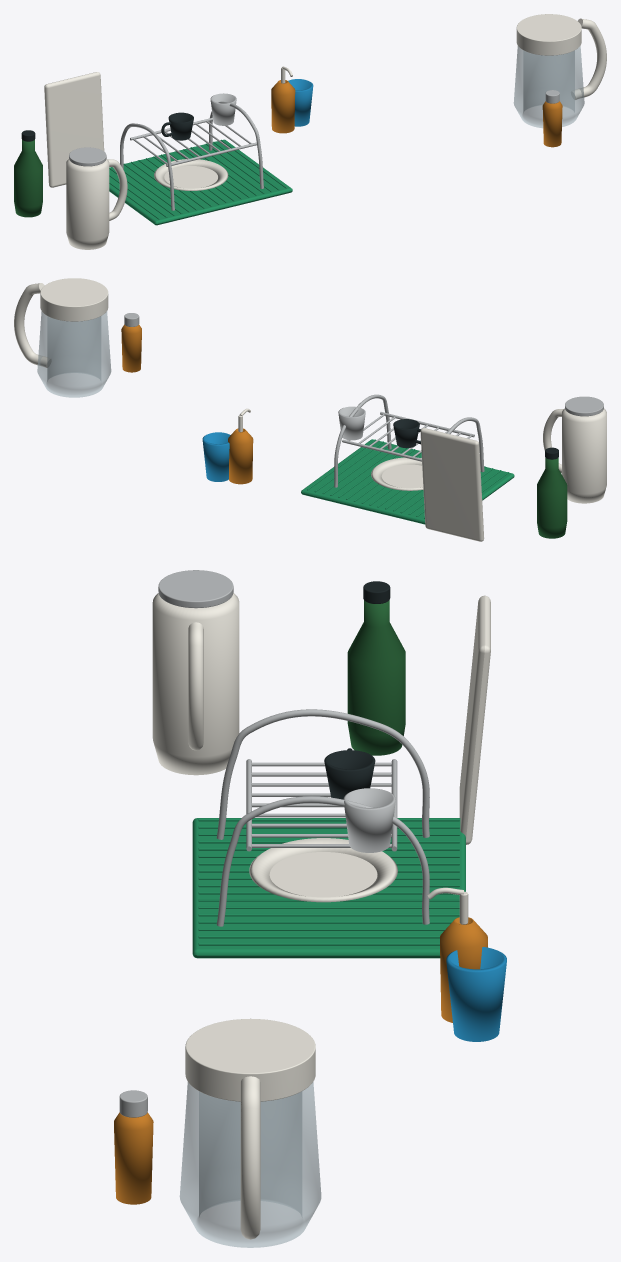
3 views of the same model, one above another, from view 1: azimuth 30°, elevation 25°; view 2: azimuth 150°, elevation 25°; view 3: azimuth 270°, elevation 25° (orthographic). The views are drawn at different scales.
Visible parts, largest first — view 1: source_green_drainmat, source_leaning_white_cutting_board, source_water_container_lower_shell, source_white_counter_canister, source_water_container_white_upper, source_green_household_bottle, source_counter_pump_bottle, source_water_container_handle, source_white_plate_center, source_lower_white_plate, source_front_small_orange_bottle, source_blue_counter_cup (+6 smaller); view 2: source_leaning_white_cutting_board, source_water_container_lower_shell, source_green_drainmat, source_white_counter_canister, source_water_container_white_upper, source_green_household_bottle, source_counter_pump_bottle, source_blue_counter_cup, source_water_container_handle, source_front_small_orange_bottle, source_white_plate_center, source_rack_metal_mug (+6 smaller); view 3: source_green_drainmat, source_water_container_lower_shell, source_white_counter_canister, source_water_container_white_upper, source_green_household_bottle, source_blue_counter_cup, source_leaning_white_cutting_board, source_white_plate_center, source_water_container_handle, source_front_small_orange_bottle, source_lower_white_plate, source_rack_side_arch_-2.435 (+8 smaller).
Part boxes in pixels (left/top/right/bottom): source_green_drainmat: left=109, top=139, right=292, bottom=225; source_leaning_white_cutting_board: left=44, top=72, right=104, bottom=187; source_water_container_lower_shell: left=513, top=46, right=584, bottom=128; source_white_counter_canister: left=66, top=159, right=109, bottom=249; source_water_container_white_upper: left=516, top=14, right=581, bottom=55; source_green_household_bottle: left=14, top=140, right=42, bottom=217; source_counter_pump_bottle: left=271, top=80, right=295, bottom=133; source_water_container_handle: left=571, top=18, right=606, bottom=99; source_white_plate_center: left=164, top=166, right=217, bottom=188; source_lower_white_plate: left=154, top=159, right=228, bottom=190; source_front_small_orange_bottle: left=542, top=101, right=562, bottom=147; source_blue_counter_cup: left=288, top=79, right=313, bottom=126; source_leaning_white_cutting_board: left=420, top=428, right=484, bottom=541; source_water_container_lower_shell: left=37, top=311, right=111, bottom=397; source_green_drainmat: left=301, top=439, right=514, bottom=524; source_white_counter_canister: left=562, top=408, right=606, bottom=503; source_water_container_white_upper: left=40, top=278, right=108, bottom=321; source_green_household_bottle: left=537, top=458, right=567, bottom=538; source_counter_pump_bottle: left=228, top=428, right=253, bottom=484; source_blue_counter_cup: left=202, top=432, right=230, bottom=481; source_water_container_handle: left=14, top=283, right=50, bottom=367; source_front_small_orange_bottle: left=121, top=324, right=141, bottom=372; source_white_plate_center: left=381, top=464, right=423, bottom=488; source_rack_metal_mug: left=338, top=406, right=365, bottom=440; source_green_drainmat: left=192, top=818, right=465, bottom=958; source_water_container_lower_shell: left=179, top=1082, right=321, bottom=1247; source_white_counter_canister: left=152, top=593, right=239, bottom=775; source_water_container_white_upper: left=185, top=1018, right=315, bottom=1101; source_green_household_bottle: left=347, top=600, right=405, bottom=755; source_blue_counter_cup: left=446, top=947, right=506, bottom=1041; source_leaning_white_cutting_board: left=459, top=595, right=490, bottom=844; source_white_plate_center: left=269, top=852, right=377, bottom=897; source_water_container_handle: left=240, top=1076, right=260, bottom=1239; source_front_small_orange_bottle: left=114, top=1112, right=153, bottom=1204; source_lower_white_plate: left=249, top=838, right=397, bottom=902; source_rack_side_arch_-2.435: left=216, top=709, right=429, bottom=839.
Size of the model in its own units: 1.82 by 0.3107 by 0.555.
